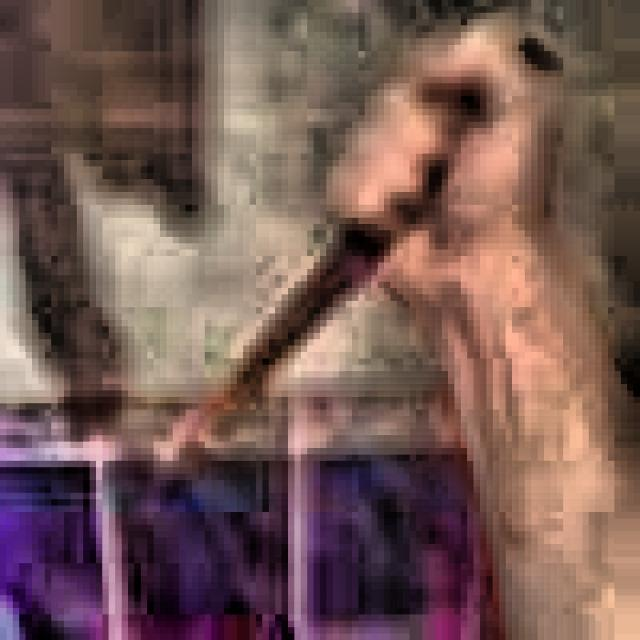knife: (162, 40, 562, 501)
